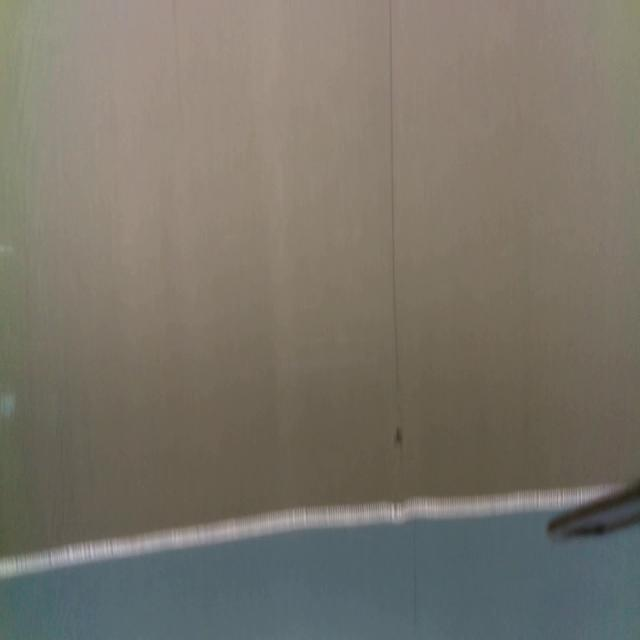crease: (387, 0, 401, 388), (170, 0, 184, 131), (411, 516, 419, 625)
hole: (392, 421, 406, 448)
